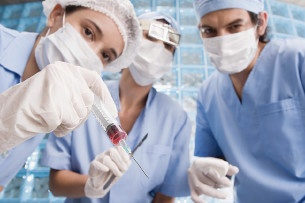Mask: (200, 17, 257, 75)
